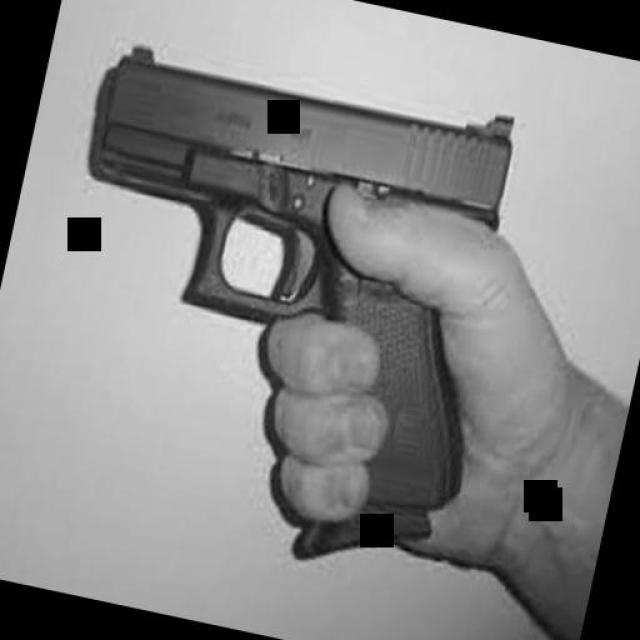gun: (9, 33, 540, 585)
